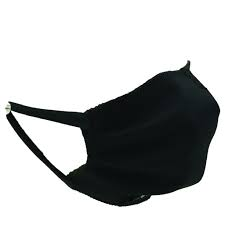cloth_mask: (6, 60, 221, 207)
